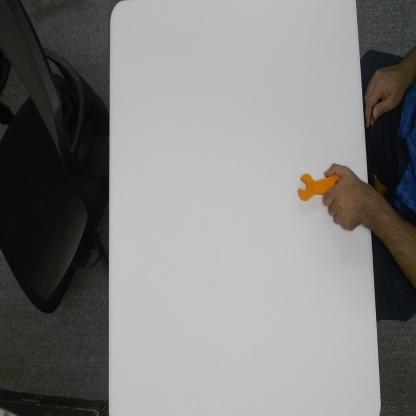Hand: (324, 154, 369, 233)
Screwdriver: (295, 168, 344, 204)
